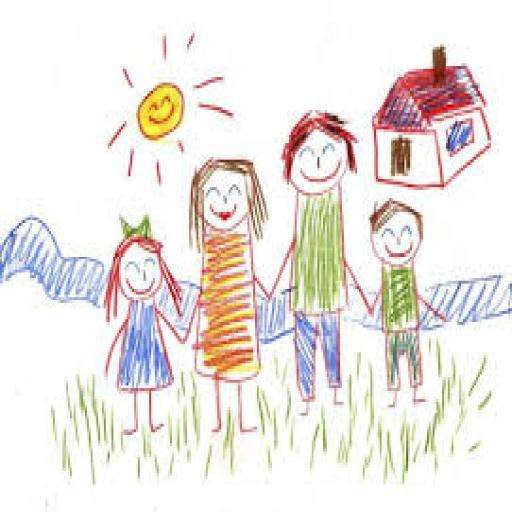person: (273, 100, 369, 422), (184, 148, 272, 442), (100, 206, 183, 439), (369, 186, 450, 413)
